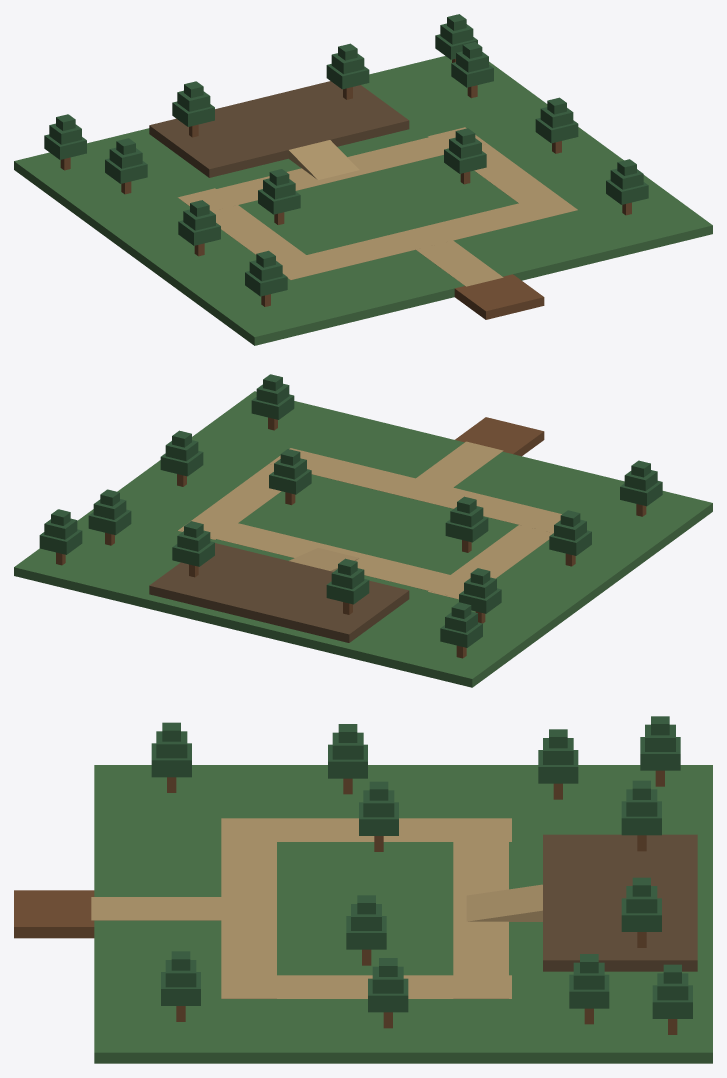
File: Greenwood.fbx
3 renders of one model, top to bottom at view 1: azimuth 30°, elevation 25°; view 2: azimuth 150°, elevation 25°; view 3: azimuth 270°, elevation 25°, orthographic. The views are drawn at different scales.
Parts seen in each view (by area): view 1: Island, BossRise, CrossTrail, CrossTrail.001, Landing, Trail, Trail.001, ArrivalTrail, RootAscent, Canopy.033, Canopy.009, Canopy.003 (+8 smaller); view 2: Island, BossRise, CrossTrail, CrossTrail.001, Trail, Landing, Trail.001, ArrivalTrail, RootAscent, Canopy.015, Canopy.003, Canopy.009 (+9 smaller); view 3: Island, BossRise, CrossTrail, CrossTrail.001, Landing, Trail, Trail.001, ArrivalTrail, RootAscent, Canopy, Canopy.030, Canopy.015 (+21 smaller).
Part boxes in pixels (x1=…): Island: x1=14, y1=56, x2=712, y2=345; BossRise: x1=149, y1=81, x2=409, y2=177; CrossTrail: x1=278, y1=194, x2=577, y2=279; CrossTrail.001: x1=179, y1=128, x2=487, y2=211; Landing: x1=454, y1=274, x2=544, y2=319; Trail: x1=178, y1=188, x2=306, y2=261; Trail.001: x1=428, y1=127, x2=556, y2=203; ArrivalTrail: x1=416, y1=240, x2=503, y2=286; RootAscent: x1=288, y1=140, x2=359, y2=180; Canopy.033: x1=326, y1=64, x2=369, y2=89; Canopy.009: x1=535, y1=118, x2=578, y2=143; Canopy.003: x1=606, y1=179, x2=648, y2=204; Island: x1=14, y1=391, x2=712, y2=687; BossRise: x1=149, y1=543, x2=409, y2=642; CrossTrail: x1=269, y1=448, x2=561, y2=532; CrossTrail.001: x1=179, y1=514, x2=468, y2=597; Trail: x1=428, y1=525, x2=553, y2=599; Landing: x1=455, y1=417, x2=544, y2=456; Trail.001: x1=178, y1=464, x2=281, y2=539; ArrivalTrail: x1=416, y1=441, x2=503, y2=487; RootAscent: x1=289, y1=548, x2=359, y2=571; Canopy.015: x1=88, y1=509, x2=131, y2=535; Canopy.003: x1=251, y1=394, x2=294, y2=419; Canopy.009: x1=160, y1=451, x2=203, y2=476; Island: x1=94, y1=765, x2=712, y2=1063; BossRise: x1=543, y1=834, x2=697, y2=971; CrossTrail: x1=221, y1=818, x2=276, y2=998; CrossTrail.001: x1=453, y1=818, x2=508, y2=998; Landing: x1=14, y1=890, x2=94, y2=938; Trail: x1=277, y1=818, x2=511, y2=841; Trail.001: x1=277, y1=975, x2=511, y2=998; ArrivalTrail: x1=91, y1=897, x2=221, y2=920; RootAscent: x1=466, y1=884, x2=542, y2=921; Canopy: x1=151, y1=743, x2=191, y2=777; Canopy.030: x1=621, y1=801, x2=661, y2=835; Canopy.015: x1=569, y1=974, x2=609, y2=1008.
Bounding box in the file's own units: 22000 × 3100 × 22600.
